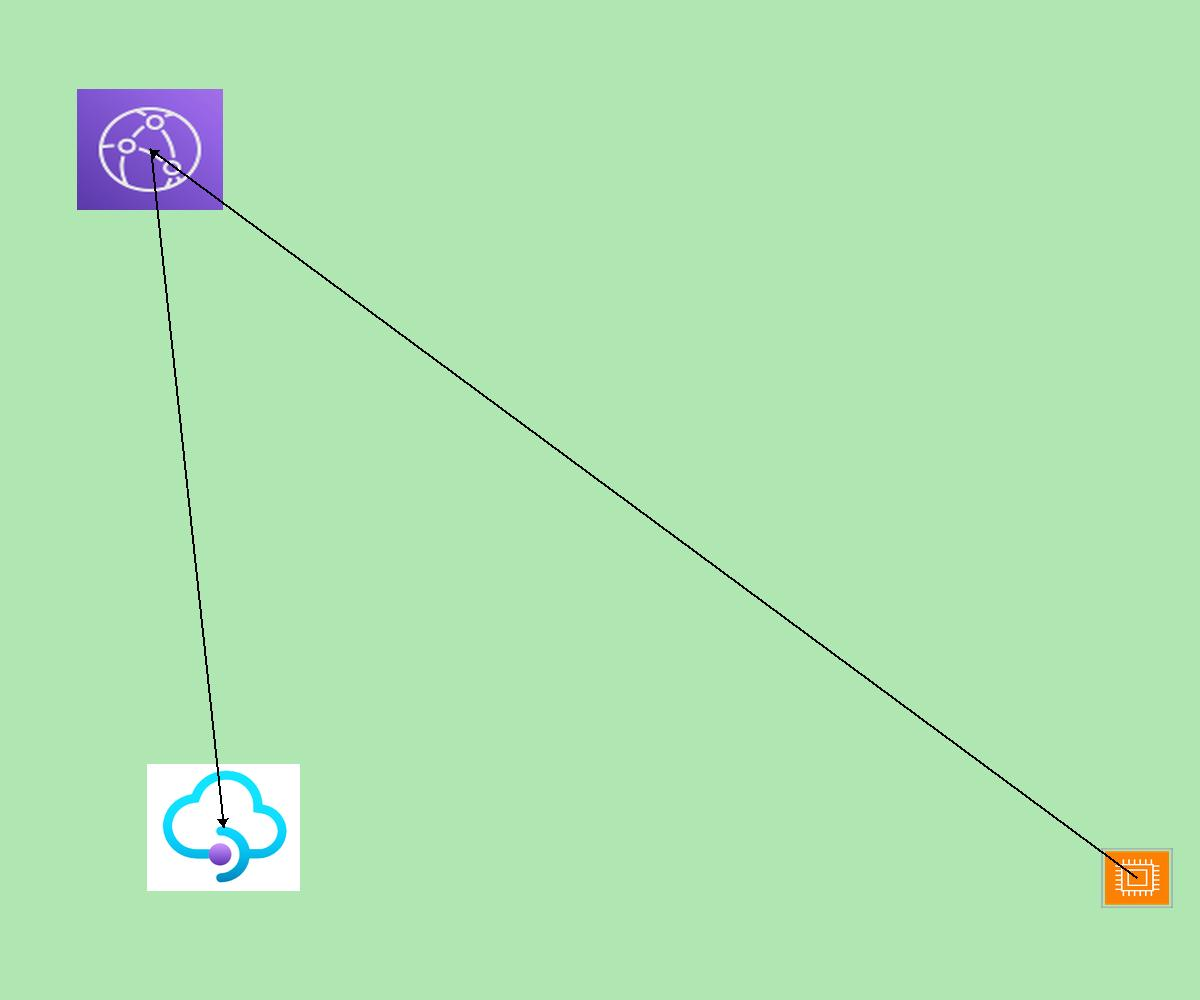AWS-Category_Compute: (1101, 848, 1173, 908)
AWS-CloudFront: (77, 89, 223, 210)
Azure_api_gateway: (147, 764, 300, 891)
